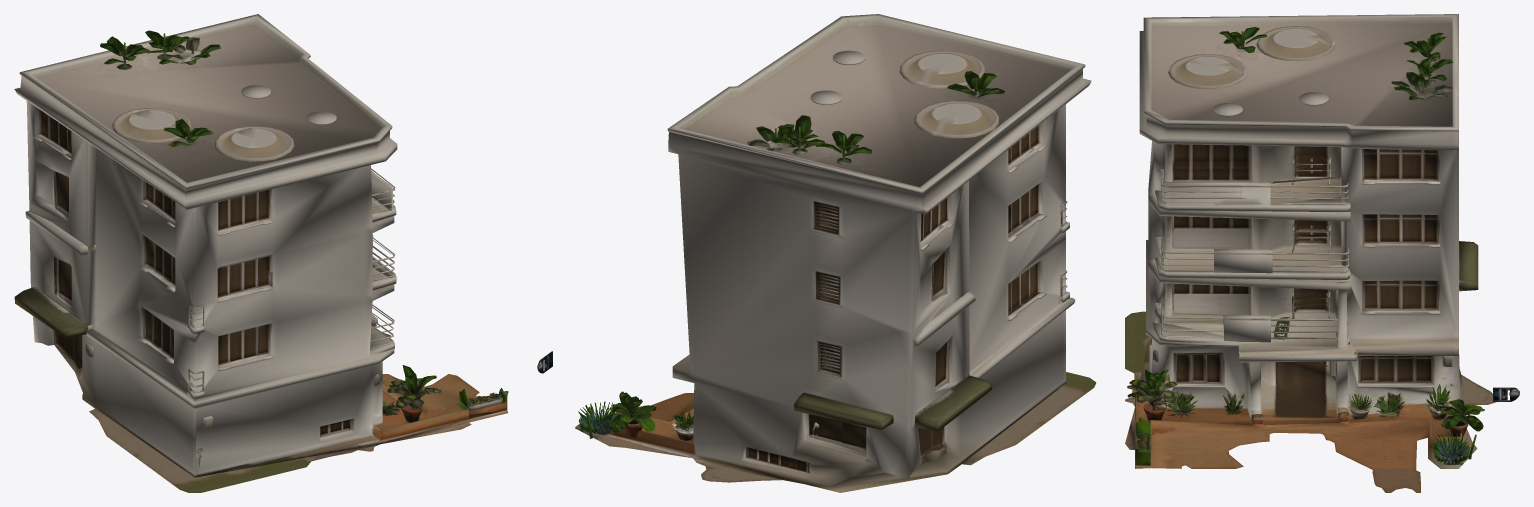
File: environment.courtyard-apartments-01.lod0.glb
The picture shows the model from 3 angles, left to right: view 1: azimuth 30°, elevation 25°; view 2: azimuth 150°, elevation 25°; view 3: azimuth 270°, elevation 25°; orthographic projection. The views are drawn at different scales.
Visible parts, largest first — view 1: environment.courtyard-apartments-01_LOD0_00; view 2: environment.courtyard-apartments-01_LOD0_00; view 3: environment.courtyard-apartments-01_LOD0_00.
Part boxes in pixels (x1,y1,x2,y2): environment.courtyard-apartments-01_LOD0_00: (14,14,508,492); environment.courtyard-apartments-01_LOD0_00: (537,14,1096,492); environment.courtyard-apartments-01_LOD0_00: (1125,14,1519,492).
Bounding box in the file's own units: 9 × 8.44 × 9.
Materials: 1 (1 with a texture image).
